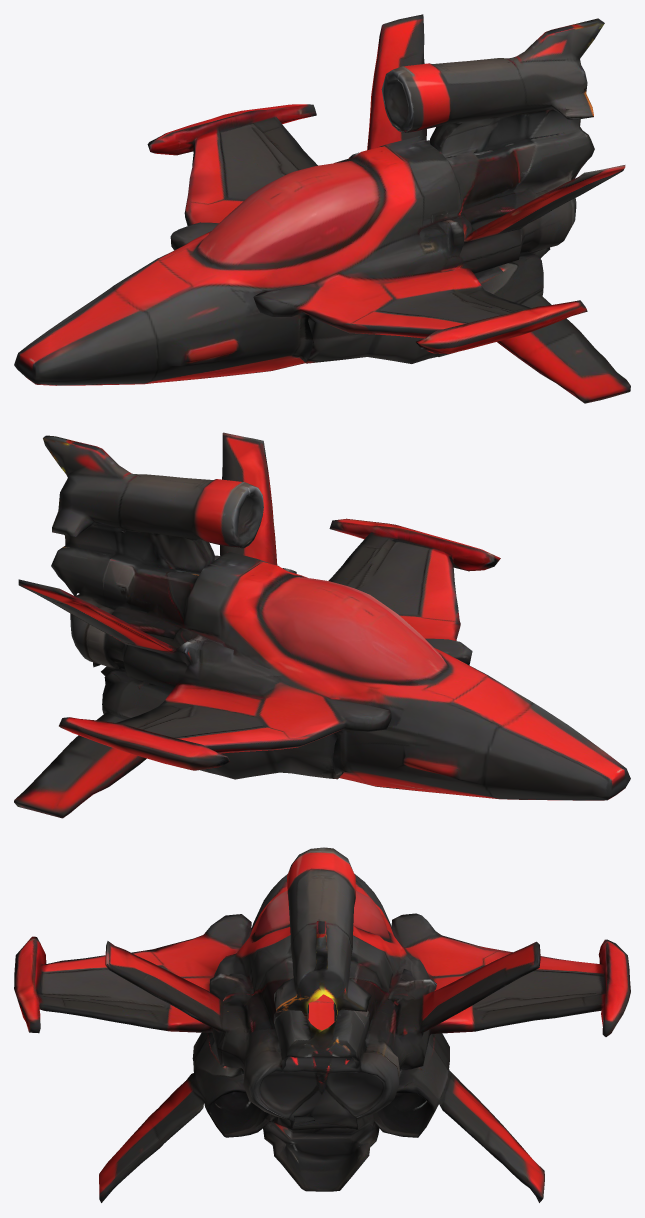
Rendered from spaceship1.glb.
3 views of the same model, one above another, from view 1: azimuth 30°, elevation 25°; view 2: azimuth 150°, elevation 25°; view 3: azimuth 270°, elevation 25° (orthographic). The views are drawn at different scales.
Parts seen in each view (by area): view 1: Mesh_0; view 2: Mesh_0; view 3: Mesh_0.
Part boxes in pixels (<box>): Mesh_0: <box>14,14,630,403</box>; Mesh_0: <box>14,432,630,818</box>; Mesh_0: <box>14,847,630,1202</box>.
Size of the model in its own units: 1.6 by 0.7331 by 1.39.
1 material, 1 textured.
